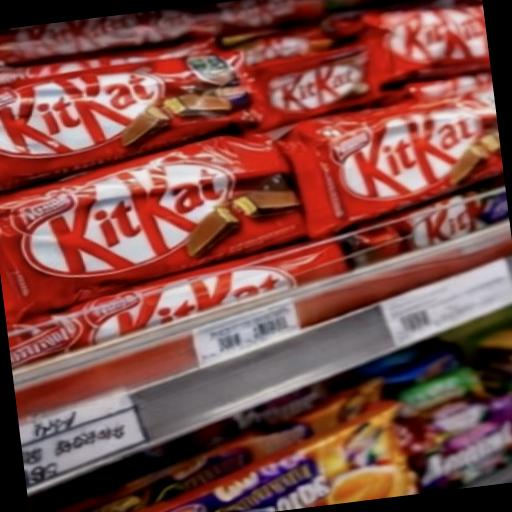kitkat: (0, 113, 345, 314), (313, 88, 512, 333), (0, 23, 259, 158)
